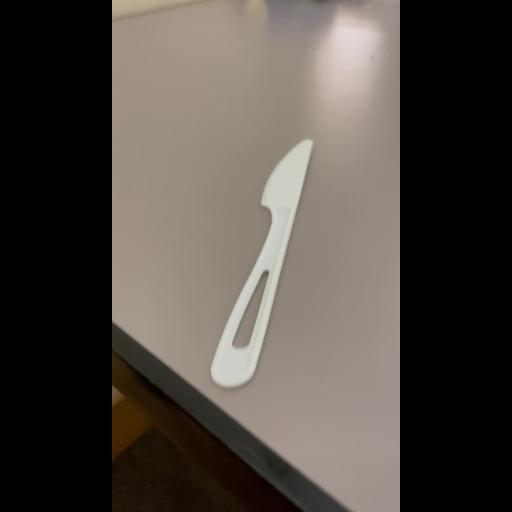utensil: (208, 106, 336, 408)
